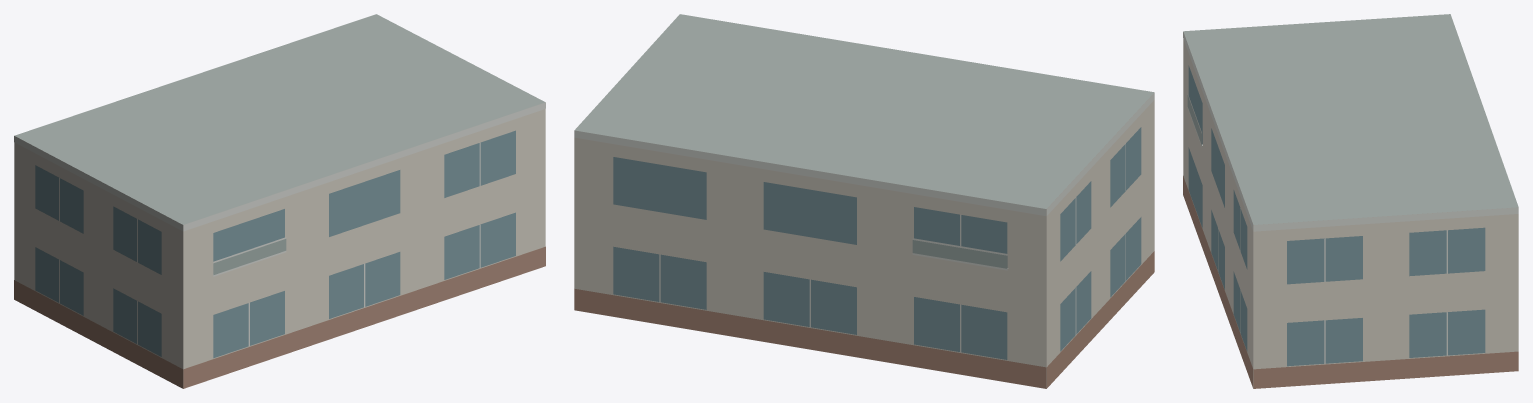
Rendered from survey-upis-32702646.glb.
3 renders of one model, left to right at view 1: azimuth 30°, elevation 25°; view 2: azimuth 150°, elevation 25°; view 3: azimuth 270°, elevation 25°, orthographic. The views are drawn at different scales.
Parts seen in each view (by area): view 1: survey-upis-32702646.tmp; view 2: survey-upis-32702646.tmp; view 3: survey-upis-32702646.tmp.
Boxes of the visible parts, x1,y1,x2,y2 form: survey-upis-32702646.tmp: (14, 14, 545, 388); survey-upis-32702646.tmp: (574, 14, 1154, 388); survey-upis-32702646.tmp: (1183, 14, 1518, 388).
Bounding box in the file's own units: 16.87 × 6.1 × 11.34.
